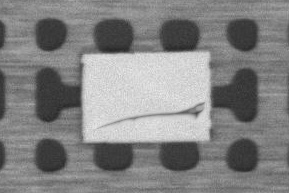DIE_INK: (95, 102, 204, 129)
